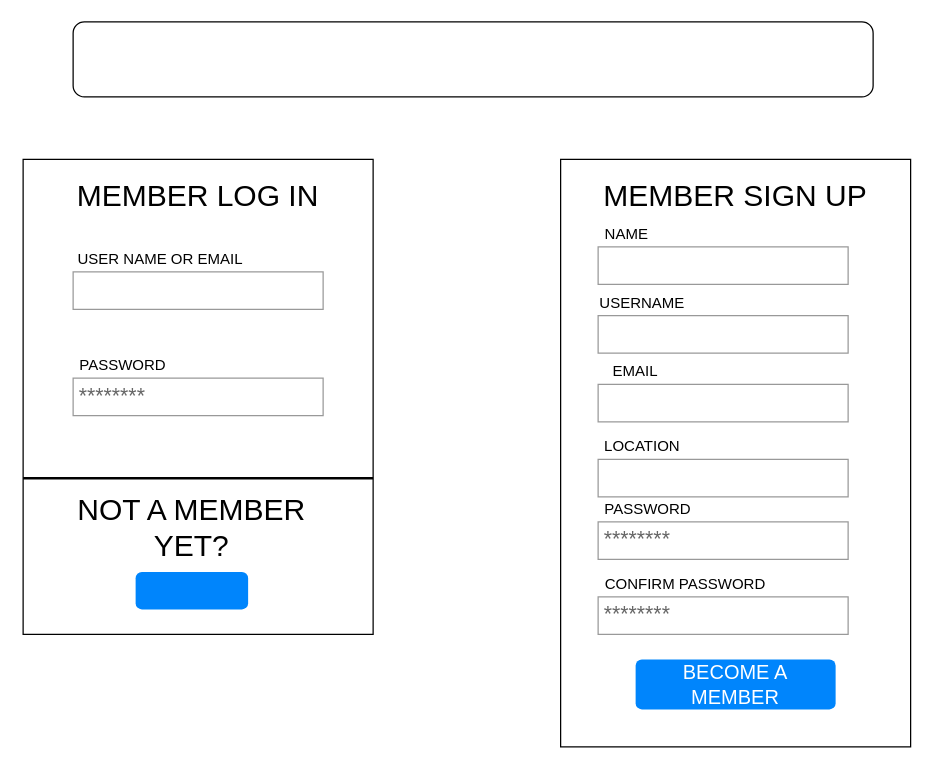
This 933x769 diagram has some shape labels left out. Here are the shapes that lost their labels. From the top down, the box of each, then its label:
(72, 21, 873, 97): Sign up and Log in modals will appear on the home page
(135, 571, 248, 609): SIGN UP
